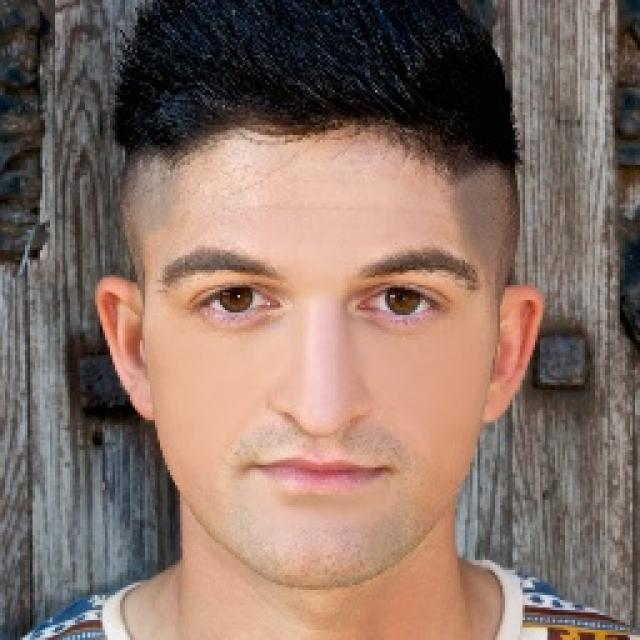earlobe: (481, 285, 544, 425), (94, 275, 154, 421)
